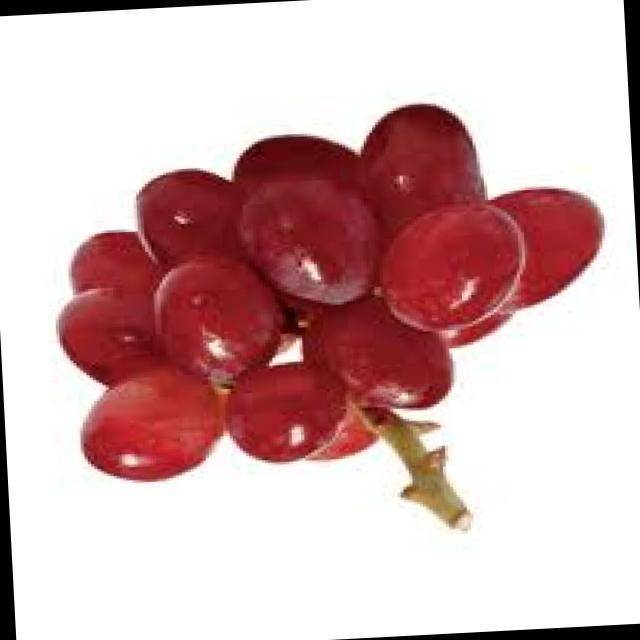Grapes: (22, 74, 640, 574)
